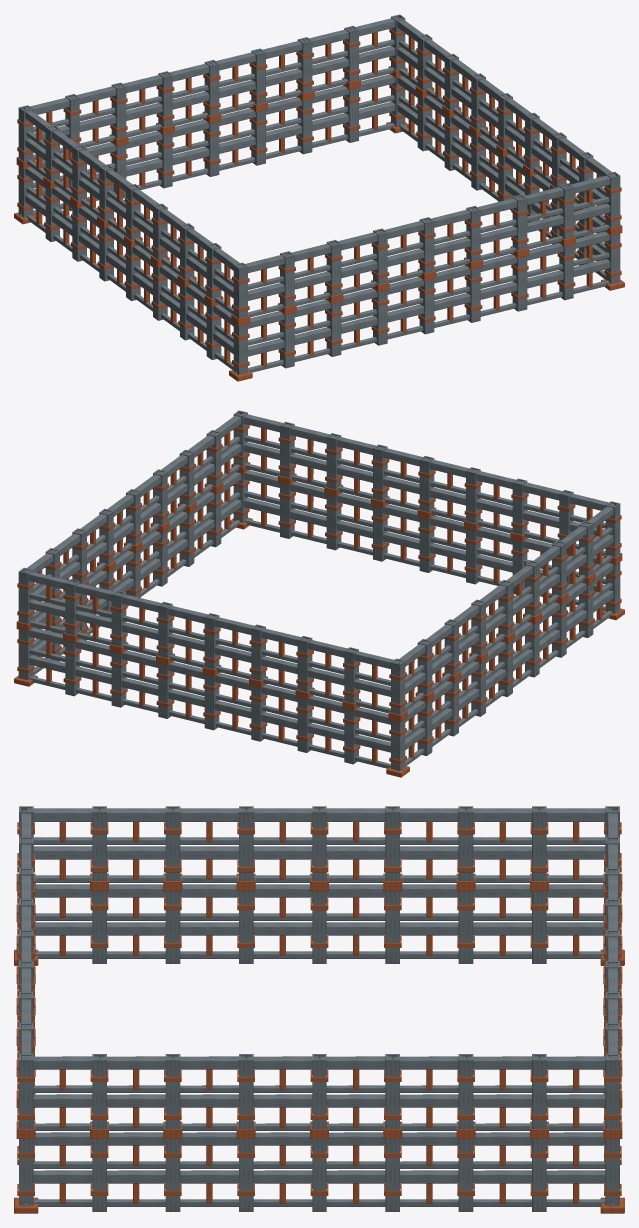
The picture shows the model from 3 angles, top to bottom: view 1: azimuth 30°, elevation 25°; view 2: azimuth 150°, elevation 25°; view 3: azimuth 270°, elevation 25°; orthographic projection. The views are drawn at different scales.
Visible parts, largest first — view 1: Tier 1 side 0 post 0, Tier 1 side 0 post 6, Tier 1 side 2 post 6, Tier 1 side 0 post 4, Tier 1 side 2 post 2, Tier 0 side 0 post 2, Tier 1 side 0 post 2, Tier 1 side 1 post 0, Tier 1 side 2 post 4, Tier 0 side 0 post 0, Tier 0 side 0 post 6, Tier 0 side 2 post 4 (+34 smaller); view 2: Tier 1 side 3 post 0, Tier 1 side 2 post 2, Tier 1 side 2 post 4, Tier 1 side 0 post 2, Tier 0 side 2 post 6, Tier 1 side 2 post 0, Tier 1 side 2 post 6, Tier 0 side 3 post 0, Tier 1 side 0 post 6, Tier 0 side 2 post 2, Tier 1 side 0 post 4, Tier 0 side 0 post 4 (+33 smaller); view 3: Tier 1 side 1 post 6, Tier 1 side 1 post 2, Tier 1 side 3 post 2, Tier 1 side 3 post 6, Tier 0 side 1 post 2, Tier 0 side 1 post 6, Tier 0 side 3 post 2, Tier 0 side 3 post 6, Tier 1 side 1 post 7, Tier 1 side 1 post 1, Tier 1 side 1 post 4, Tier 1 side 3 post 1 (+84 smaller).
Part boxes in pixels (x1,y1,x2,y2): Tier 1 side 0 post 0: (233, 262, 247, 318); Tier 1 side 0 post 6: (512, 194, 527, 250); Tier 1 side 2 post 6: (111, 82, 126, 138); Tier 1 side 0 post 4: (419, 217, 434, 273); Tier 1 side 2 post 2: (297, 37, 312, 93); Tier 0 side 0 post 2: (326, 301, 341, 356); Tier 1 side 0 post 2: (326, 240, 341, 295); Tier 1 side 1 post 0: (605, 171, 620, 227); Tier 1 side 2 post 4: (204, 60, 219, 116); Tier 0 side 0 post 0: (233, 323, 247, 374); Tier 0 side 0 post 6: (512, 256, 527, 311); Tier 0 side 2 post 4: (204, 121, 219, 176); Tier 1 side 3 post 0: (391, 658, 405, 714); Tier 1 side 2 post 2: (111, 590, 126, 646); Tier 1 side 2 post 4: (204, 613, 219, 669); Tier 1 side 0 post 2: (512, 478, 527, 534); Tier 0 side 2 post 6: (297, 697, 312, 752); Tier 1 side 2 post 0: (18, 567, 33, 623); Tier 1 side 2 post 6: (297, 636, 312, 691); Tier 0 side 3 post 0: (391, 719, 405, 770); Tier 1 side 0 post 6: (326, 433, 341, 489); Tier 0 side 2 post 2: (111, 652, 126, 707); Tier 1 side 0 post 4: (419, 456, 434, 512); Tier 0 side 0 post 4: (419, 517, 434, 572); Tier 1 side 1 post 6: (458, 1054, 473, 1128); Tier 1 side 1 post 2: (165, 1054, 180, 1128); Tier 1 side 3 post 2: (458, 806, 473, 880); Tier 1 side 3 post 6: (165, 806, 180, 880); Tier 0 side 1 post 2: (165, 1139, 180, 1211); Tier 0 side 1 post 6: (458, 1139, 473, 1211); Tier 0 side 3 post 2: (458, 891, 473, 963); Tier 0 side 3 post 6: (165, 891, 180, 963); Tier 1 side 1 post 7: (532, 1054, 546, 1128); Tier 1 side 1 post 1: (92, 1054, 106, 1128); Tier 1 side 1 post 4: (312, 1054, 326, 1128); Tier 1 side 3 post 1: (532, 806, 546, 880).
Size of the model in its own units: 3.75 by 1.03 by 3.75.
Materials: 2 (2 with a texture image).
